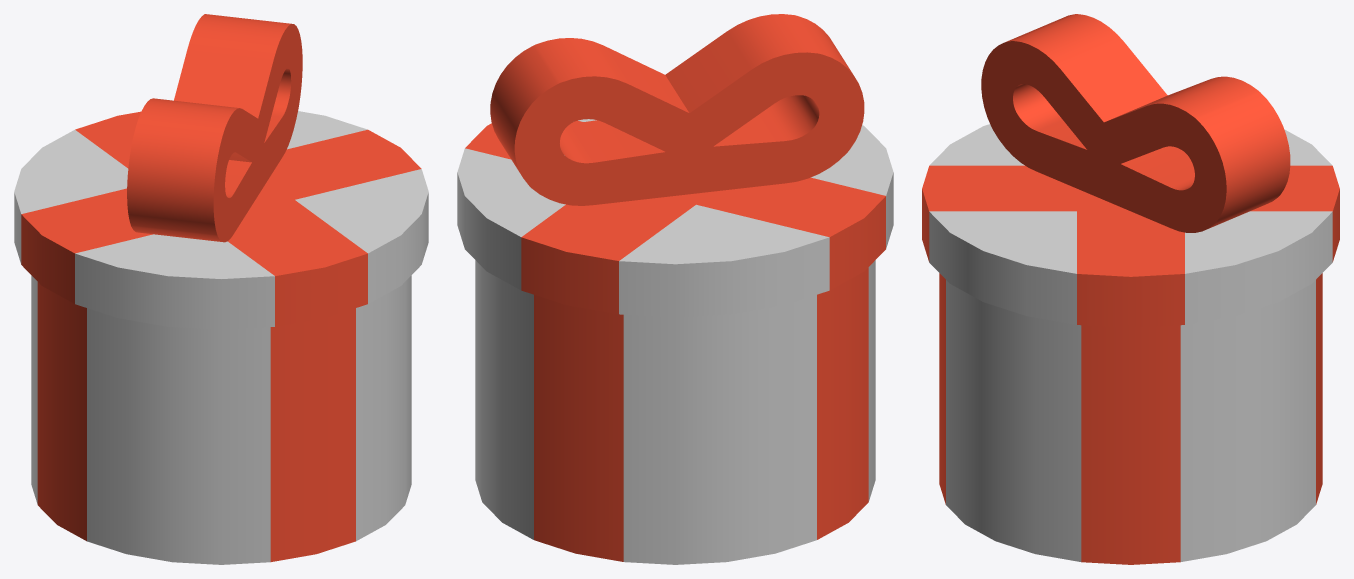
Rendered from presentRound.fbx.
3 renders of one model, left to right at view 1: azimuth 30°, elevation 25°; view 2: azimuth 150°, elevation 25°; view 3: azimuth 270°, elevation 25°, orthographic. The views are drawn at different scales.
Visible parts, largest first — view 1: presentRound, lid; view 2: lid, presentRound; view 3: lid, presentRound.
Boxes of the visible parts, x1,y1,x2,y2 form: presentRound: [31, 275, 411, 564]; lid: [14, 14, 428, 329]; lid: [457, 14, 893, 317]; presentRound: [475, 260, 875, 564]; lid: [922, 14, 1339, 327]; presentRound: [939, 273, 1322, 564].
Size of the model in its own units: 3.61 by 4 by 3.61.
